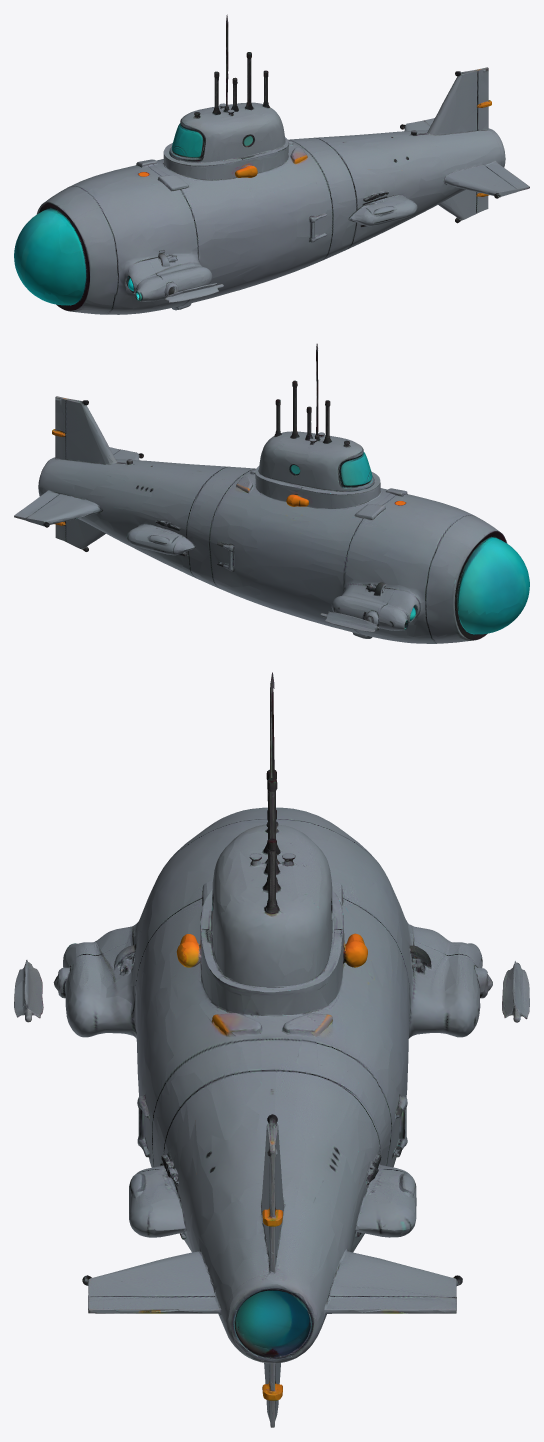
Rendered from ocean-submarine-mesh.glb.
The picture shows the model from 3 angles, top to bottom: view 1: azimuth 30°, elevation 25°; view 2: azimuth 150°, elevation 25°; view 3: azimuth 270°, elevation 25°; orthographic projection. The views are drawn at different scales.
Parts seen in each view (by area): view 1: Mesh_0; view 2: Mesh_0; view 3: Mesh_0.
Boxes of the visible parts, left/top/right/bottom form: Mesh_0: left=14, top=14, right=529, bottom=314; Mesh_0: left=14, top=343, right=529, bottom=643; Mesh_0: left=14, top=672, right=529, bottom=1427.
Size of the model in its own units: 1.9 by 1.05 by 0.914.
1 material, 1 textured.
